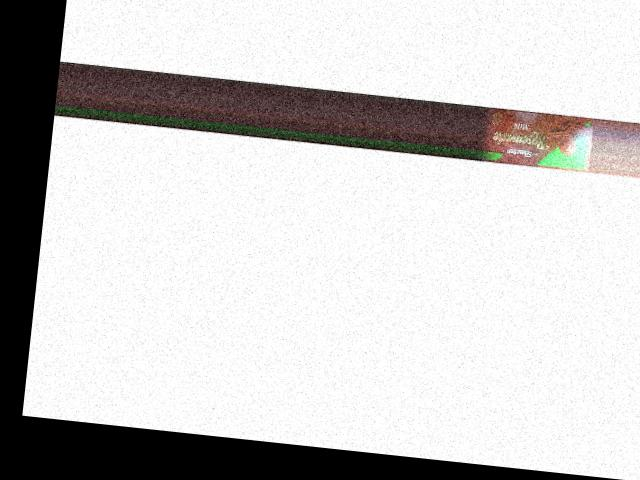chocolate: (477, 107, 592, 170)
